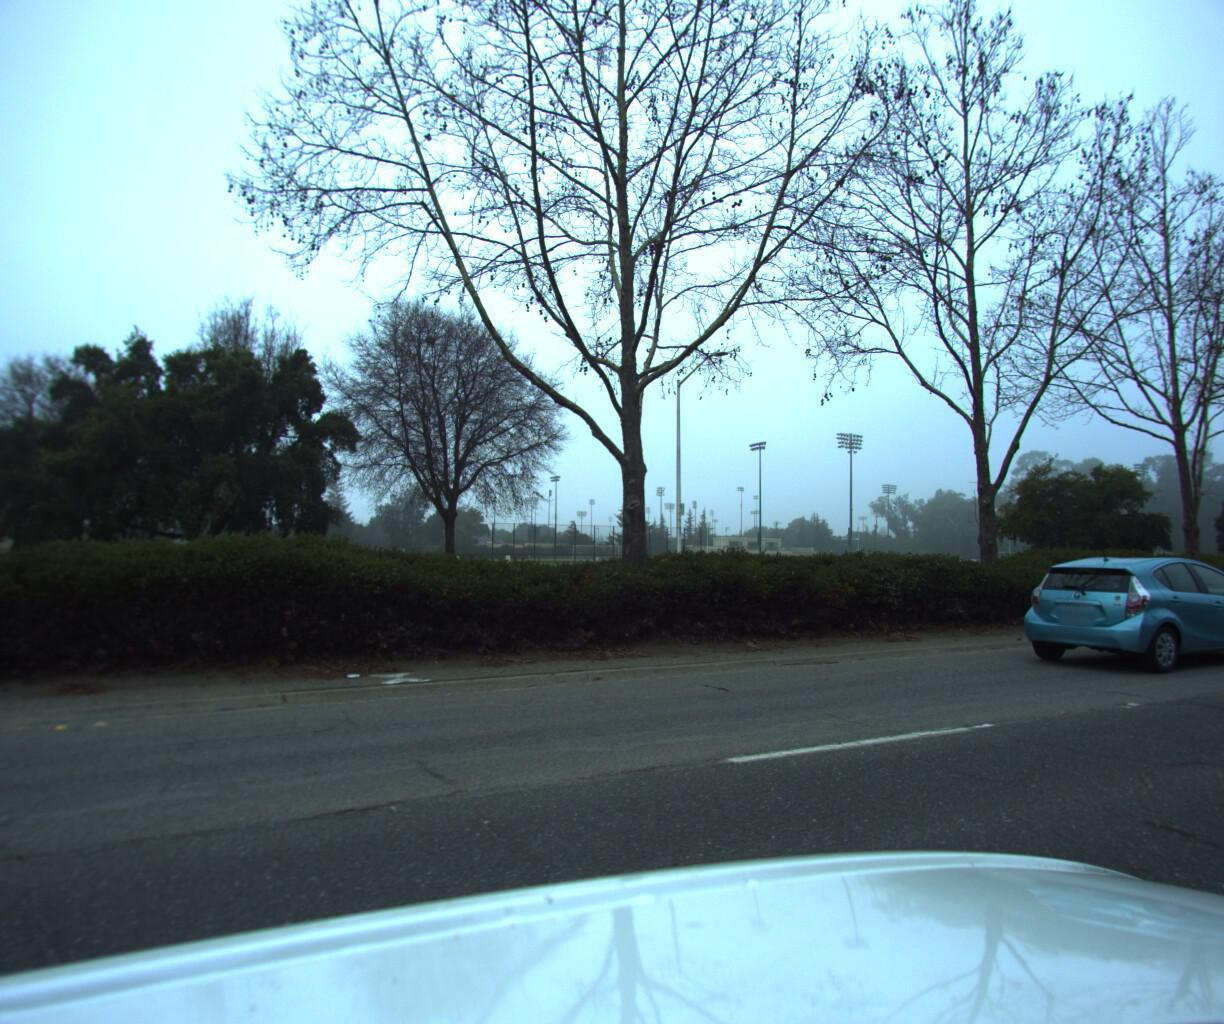car: (999, 555, 1224, 676)
